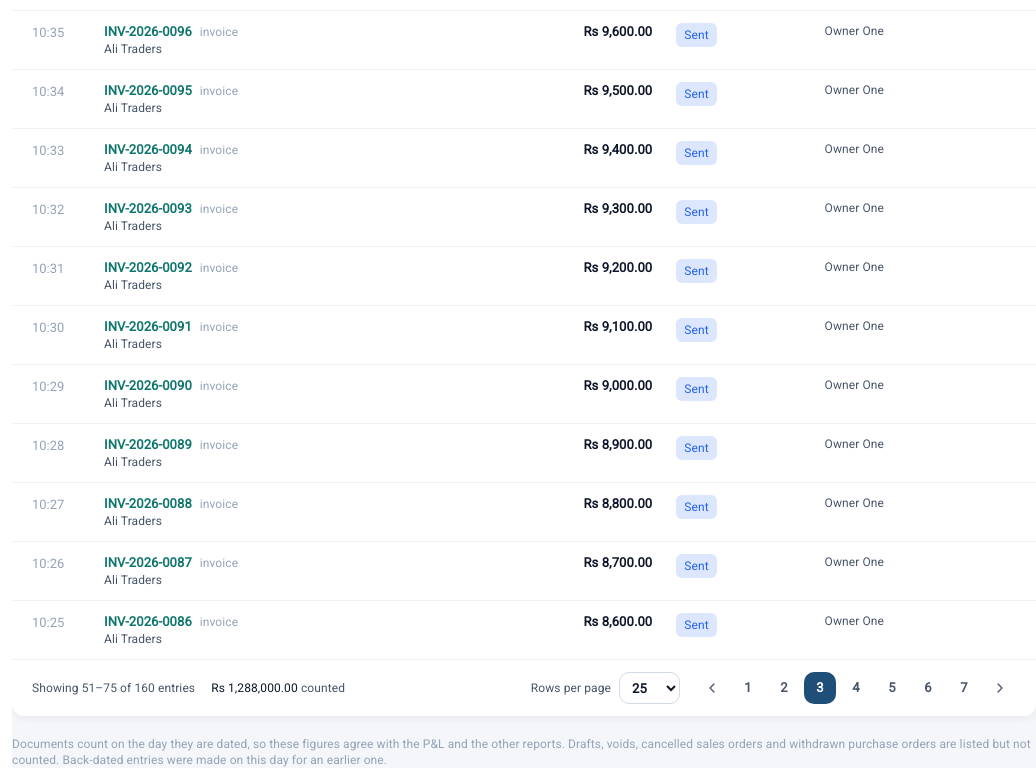
it: DaySummaryPage › a busy day › takes 50 or 100 a page, starting again from the first
(page scrolled)
Select "100" in the dropdown labelled "Rows per page" at (650,688), box 619,672 -> 680,704
(page scrolled)
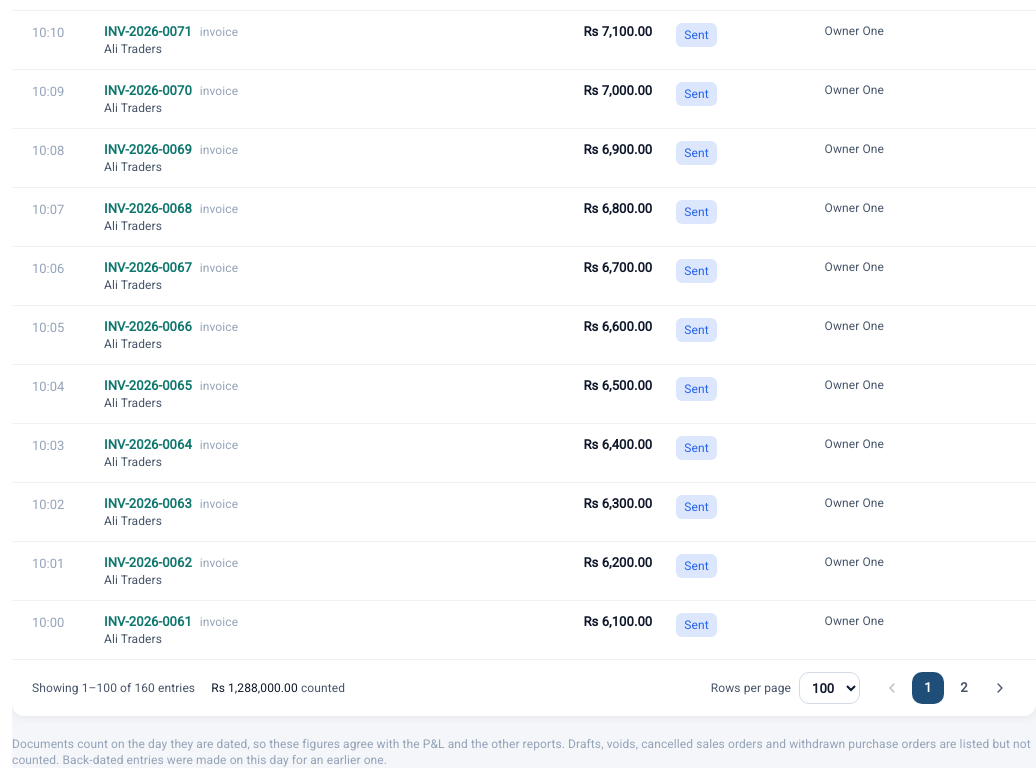
Expected: the text "Showing 1–100 of 160 entries" is shown, 32,680 -> 195,696
